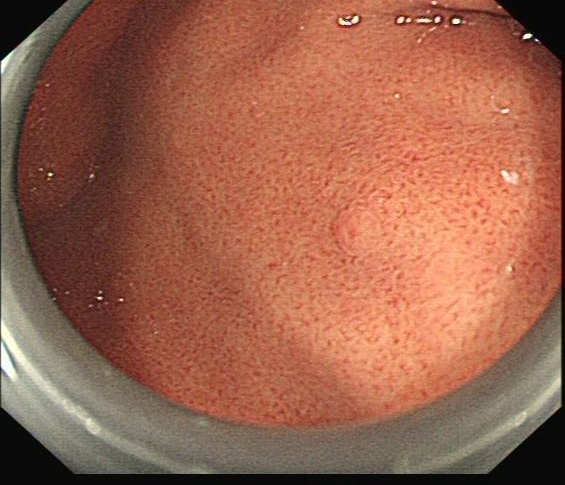Polyp: (334, 207, 386, 259)
